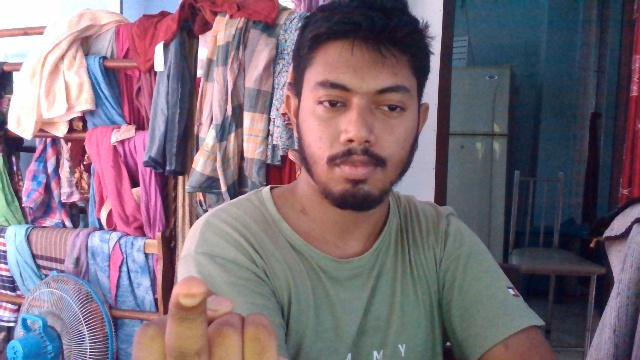fucku: (132, 271, 281, 360)
